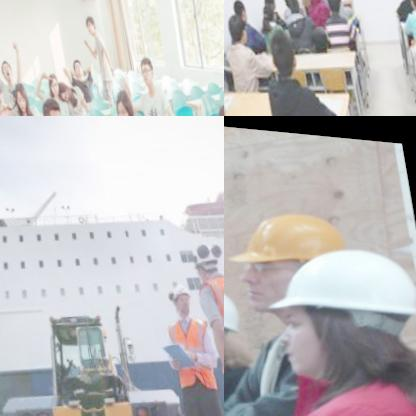head: (262, 23, 300, 83), (111, 79, 137, 116), (224, 4, 246, 45), (135, 48, 157, 84), (37, 91, 65, 116), (12, 79, 29, 109), (229, 0, 250, 23), (255, 0, 274, 23), (55, 73, 72, 97), (45, 66, 59, 94), (70, 50, 83, 76), (0, 52, 13, 77), (83, 7, 97, 29), (321, 0, 342, 13), (259, 0, 278, 10), (283, 0, 298, 12)
helmet: (250, 211, 416, 390), (224, 178, 382, 341), (224, 257, 262, 385), (185, 227, 224, 279), (164, 261, 198, 314)
